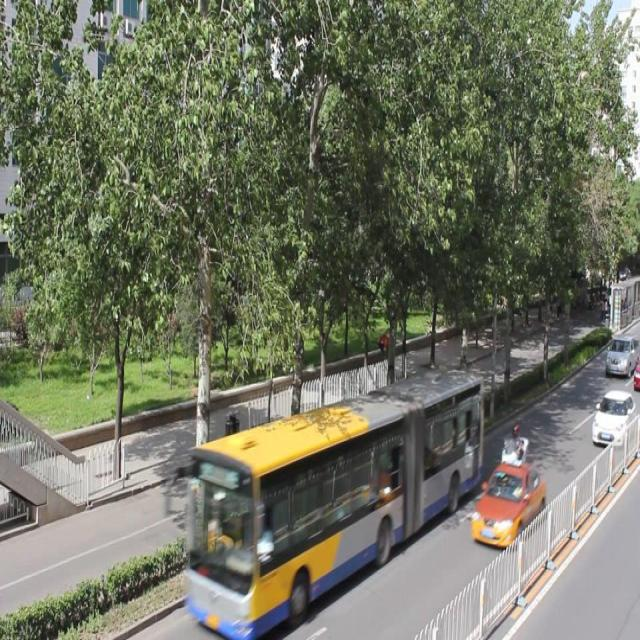car: (470, 461, 545, 548), (590, 389, 640, 444)
van: (184, 369, 480, 634)
